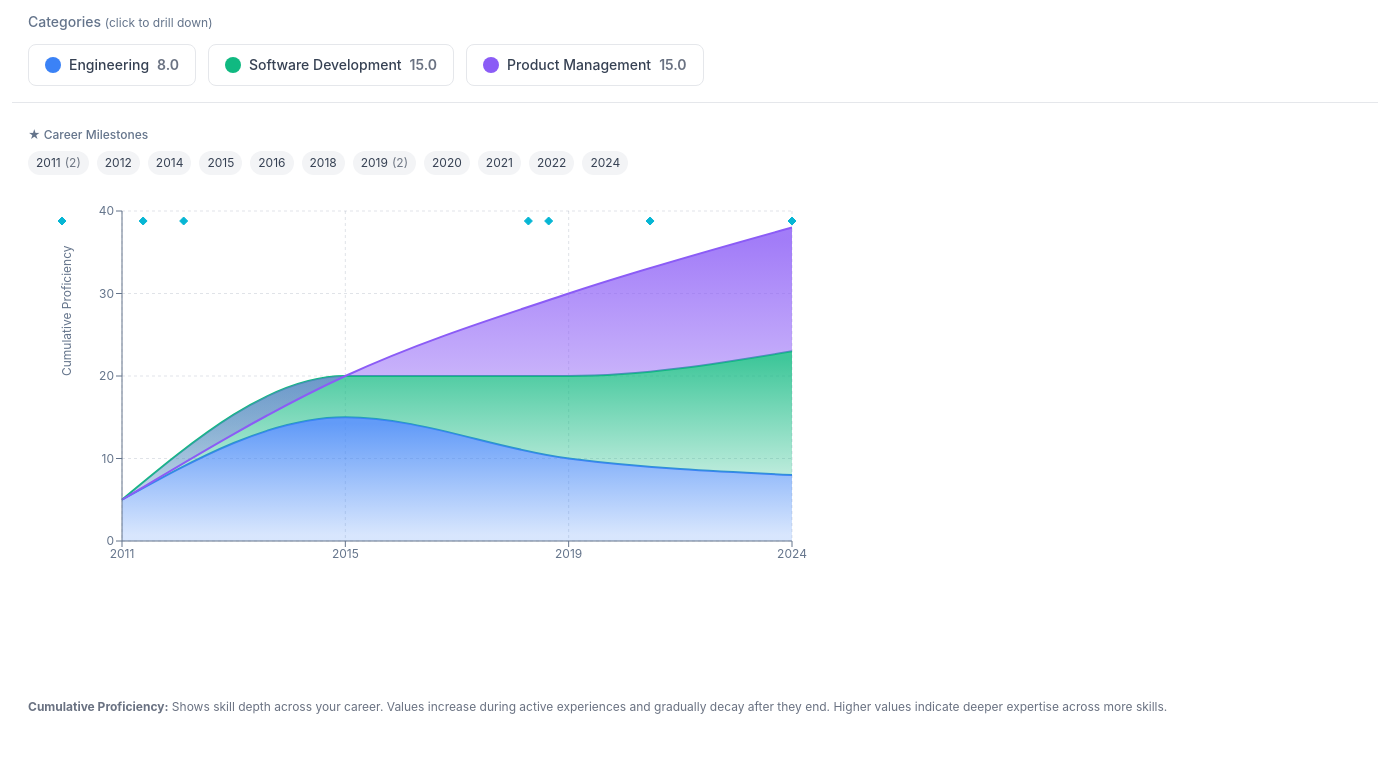
Test: TimelineArea Milestone Markers › shows milestone tooltip on hover
This screenshot has width=1378, height=780.
Hover over the badge
Hover over the button with test id "milestone-badge" showing "2011(2)" at (58, 163), box [28,151,89,175]
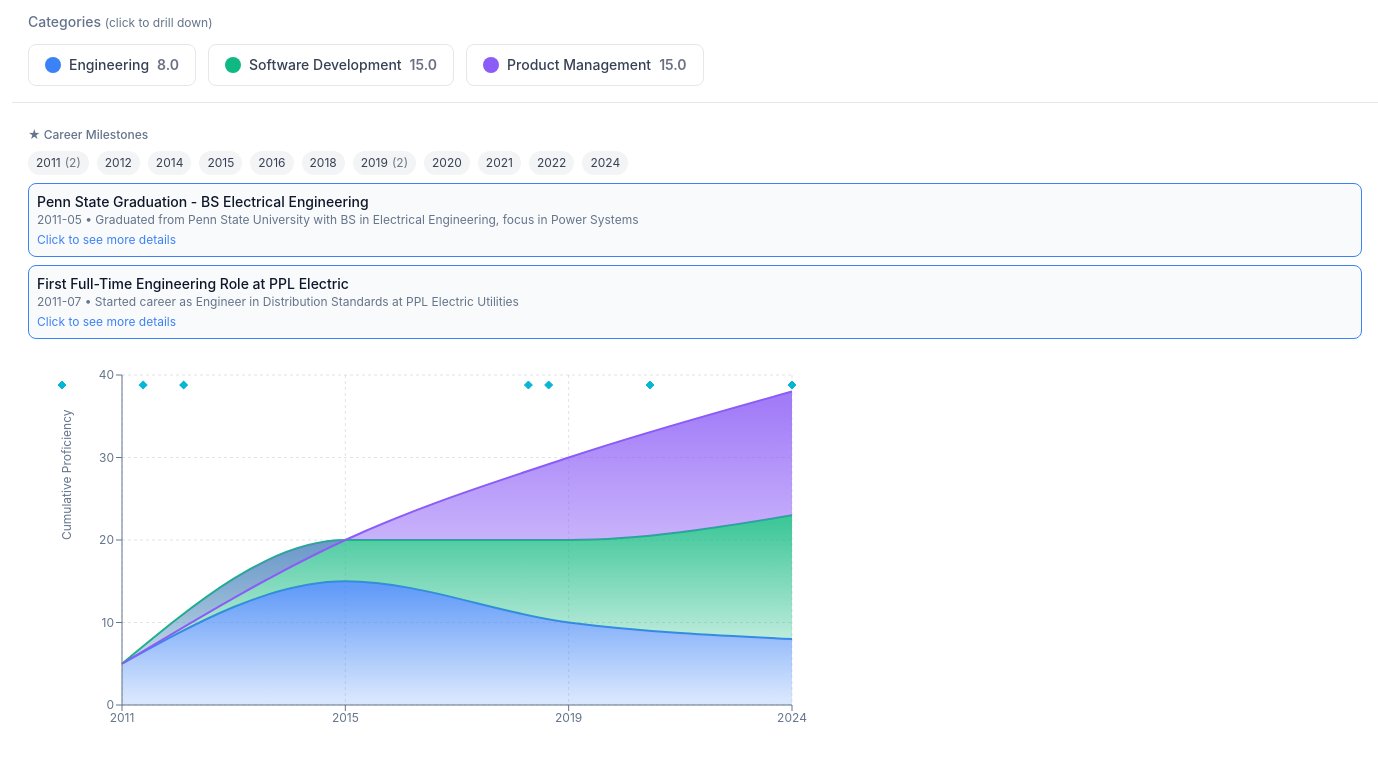
Expected: the element with test id "milestone-tooltip" is shown, [28,183,1362,339]
